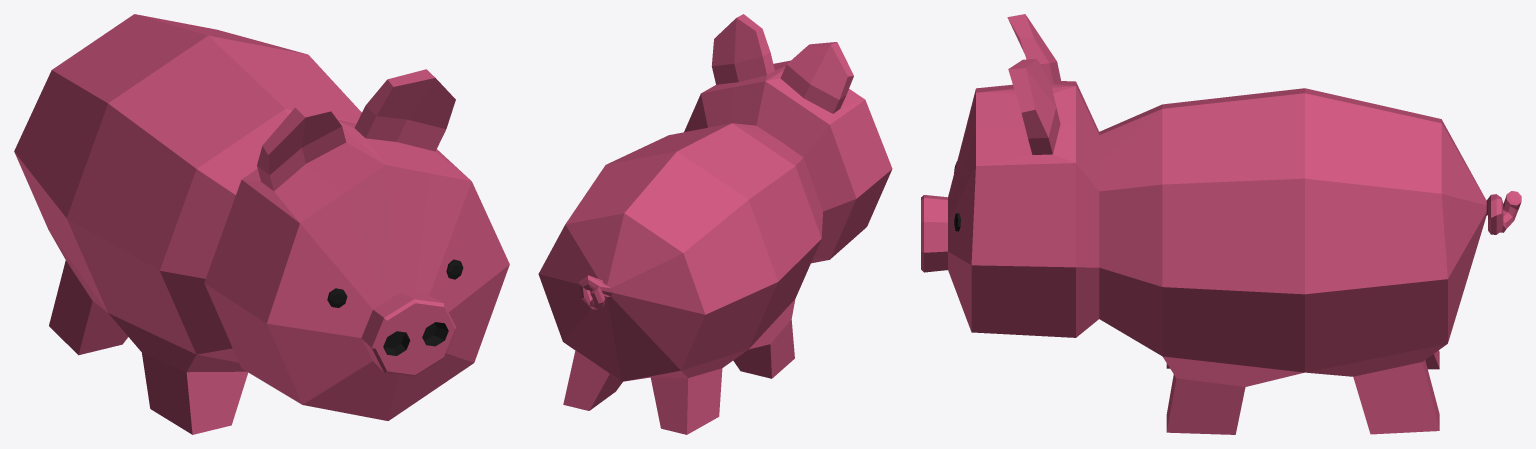
Rendered from Pig_01.fbx.
3 views of the same model, side by side, from view 1: azimuth 30°, elevation 25°; view 2: azimuth 150°, elevation 25°; view 3: azimuth 270°, elevation 25° (orthographic). The views are drawn at different scales.
Parts seen in each view (by area): view 1: Pig_01; view 2: Pig_01; view 3: Pig_01.
Boxes of the visible parts, box(x1,y1,x2,y2) form: Pig_01: box(14, 14, 509, 434); Pig_01: box(538, 14, 892, 434); Pig_01: box(921, 14, 1521, 434).
Bounding box in the file's own units: 5.15 × 6.66 × 10.23.
